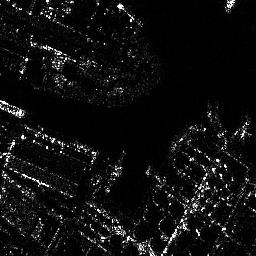ship: (1, 101, 27, 119)
